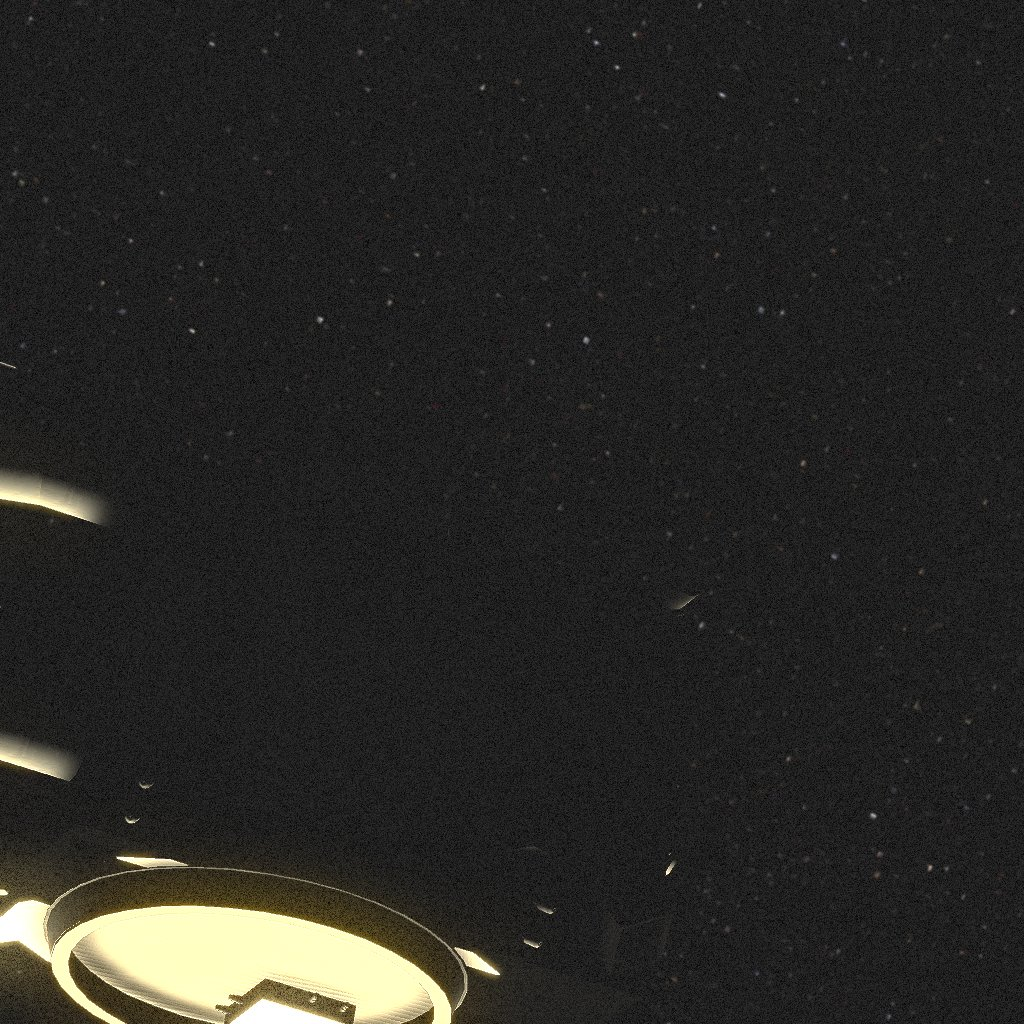proba_3_csc: (0, 361, 704, 1024)
